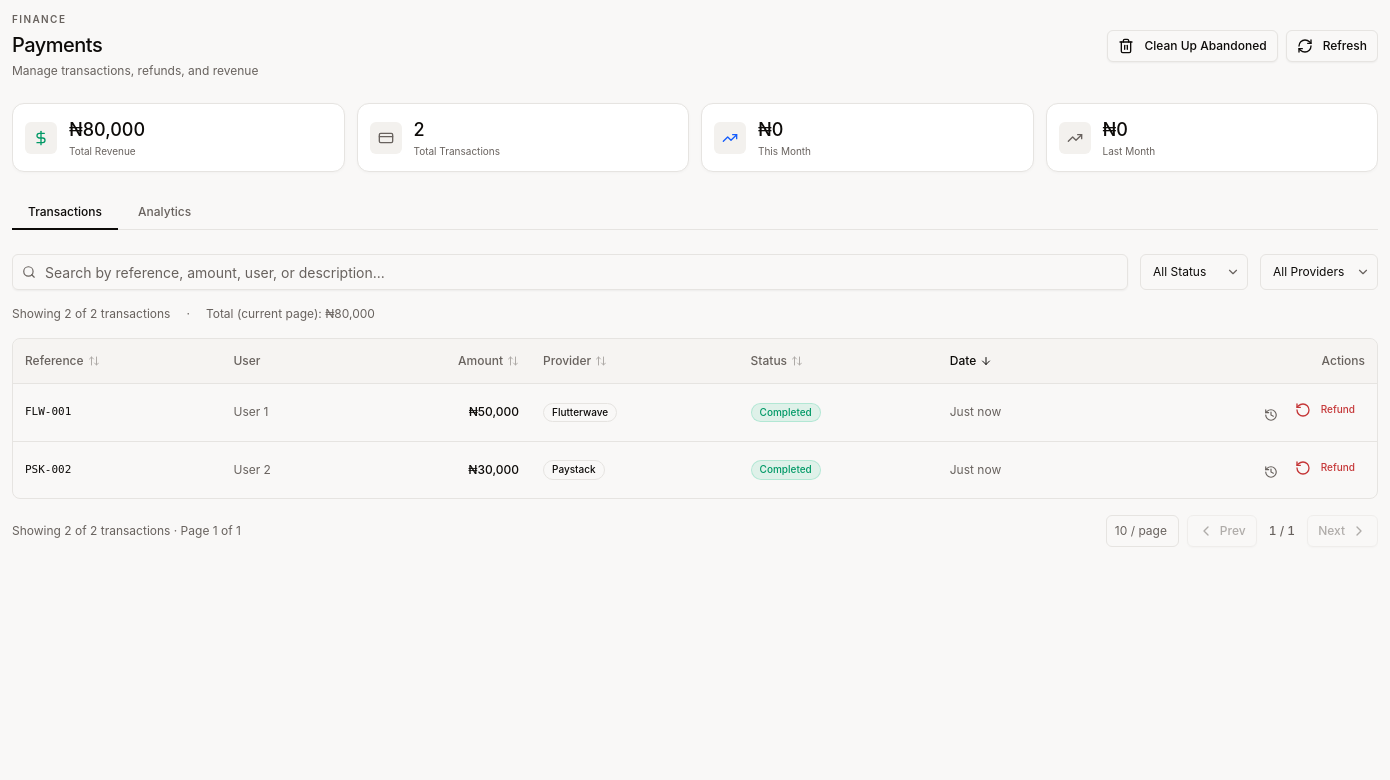
Test: AdminPayments Page › Transactions Tab › searches by reference
Type "FLW" into the field with placeholder "Search by reference, amount, user, or description..." at (570, 272), box [12, 254, 1128, 290]
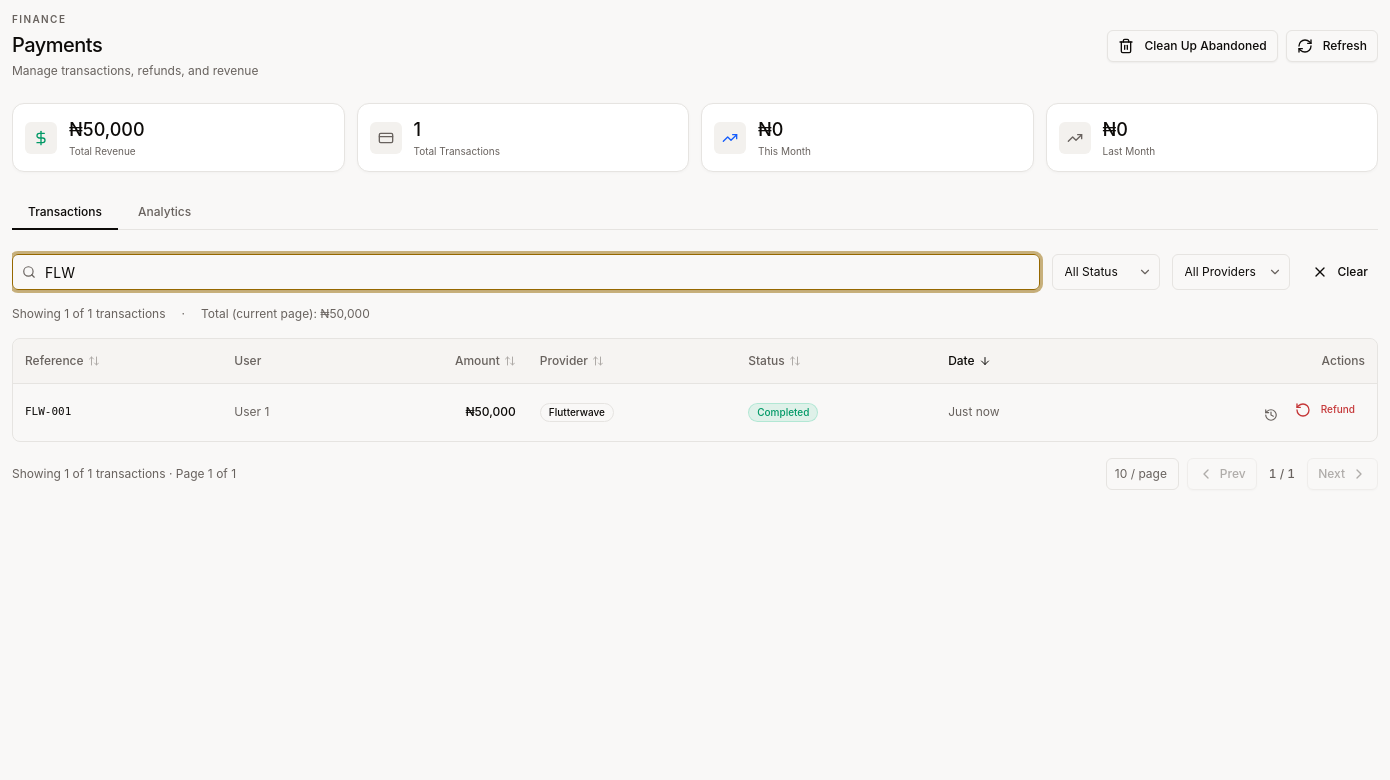
Expected: the text "FLW-001" is shown, [25, 405, 71, 418]
Expected: the text "PSK-002" is gone
